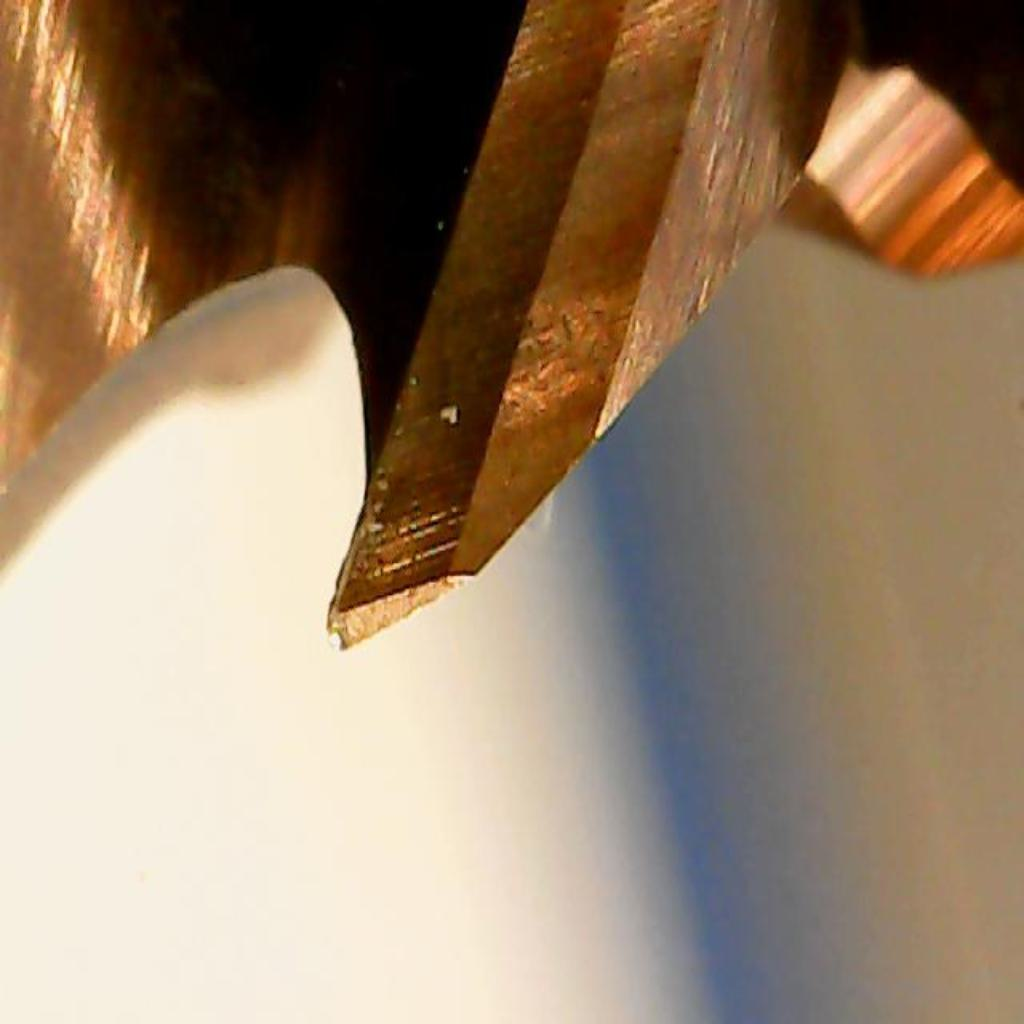Tool-wear-class-1: (326, 330, 572, 654)
